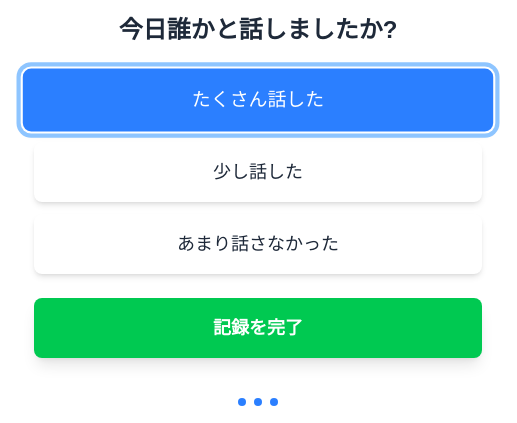
Scenario: QuestionAnswerStep › 記録の送信 › 送信成功後、完了アニメーションを表示する
Click the button "記録を完了" at (258, 328), box top-left (34, 298), bottom-right (482, 358)
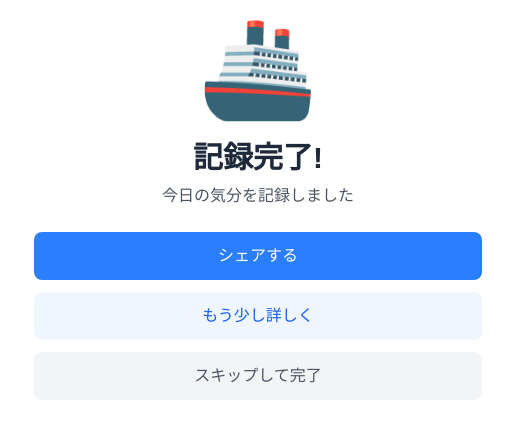
Now the heading "記録完了!" is shown, box top-left (193, 141), bottom-right (323, 174)
